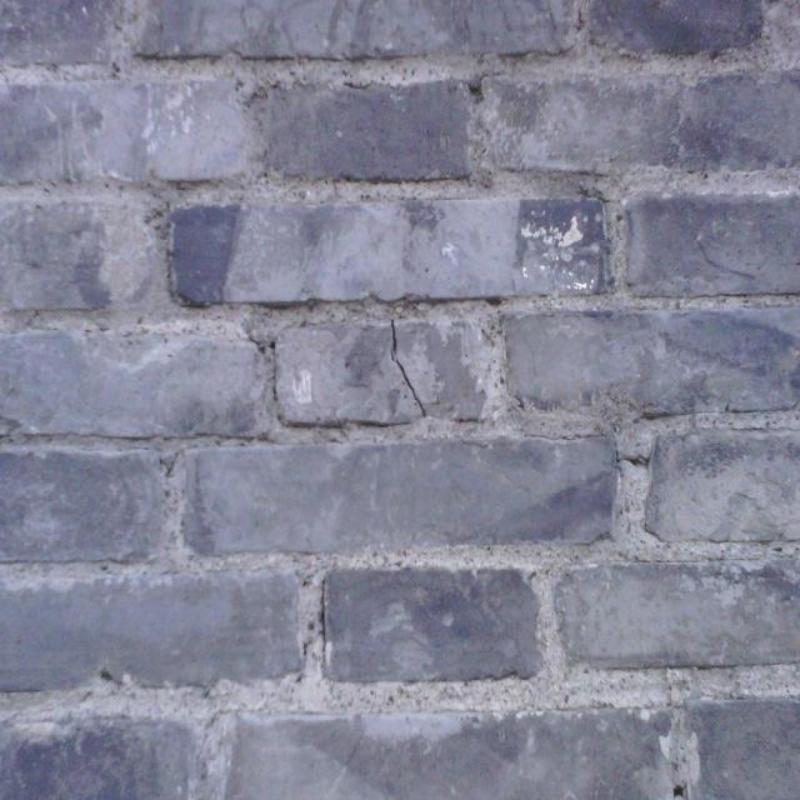pothole: (525, 432, 649, 465), (391, 320, 427, 416)
